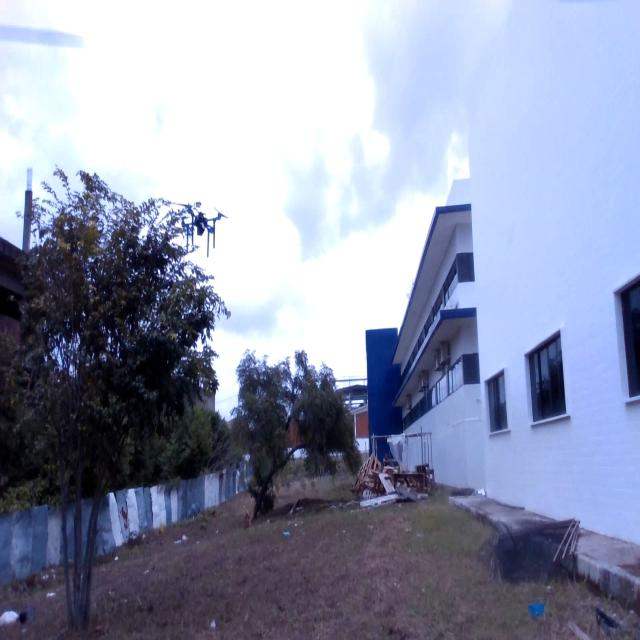-uav-: (169, 176, 231, 280)
